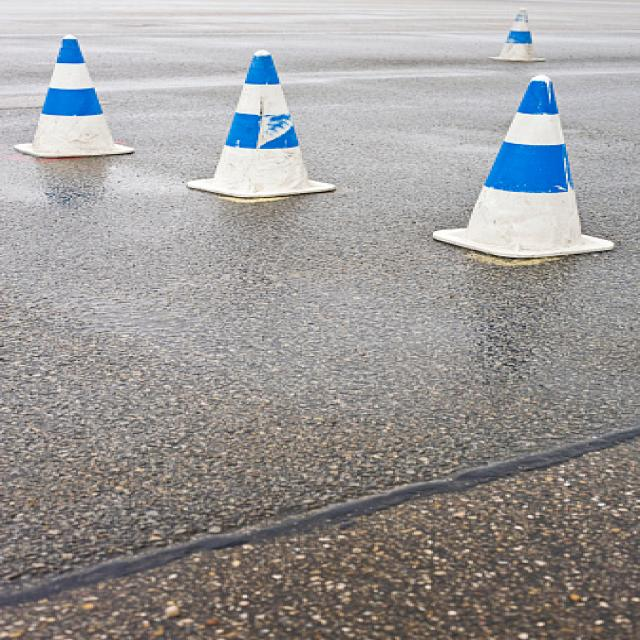cone: (433, 75, 614, 258), (186, 49, 336, 198), (15, 33, 134, 158), (488, 7, 545, 62)
